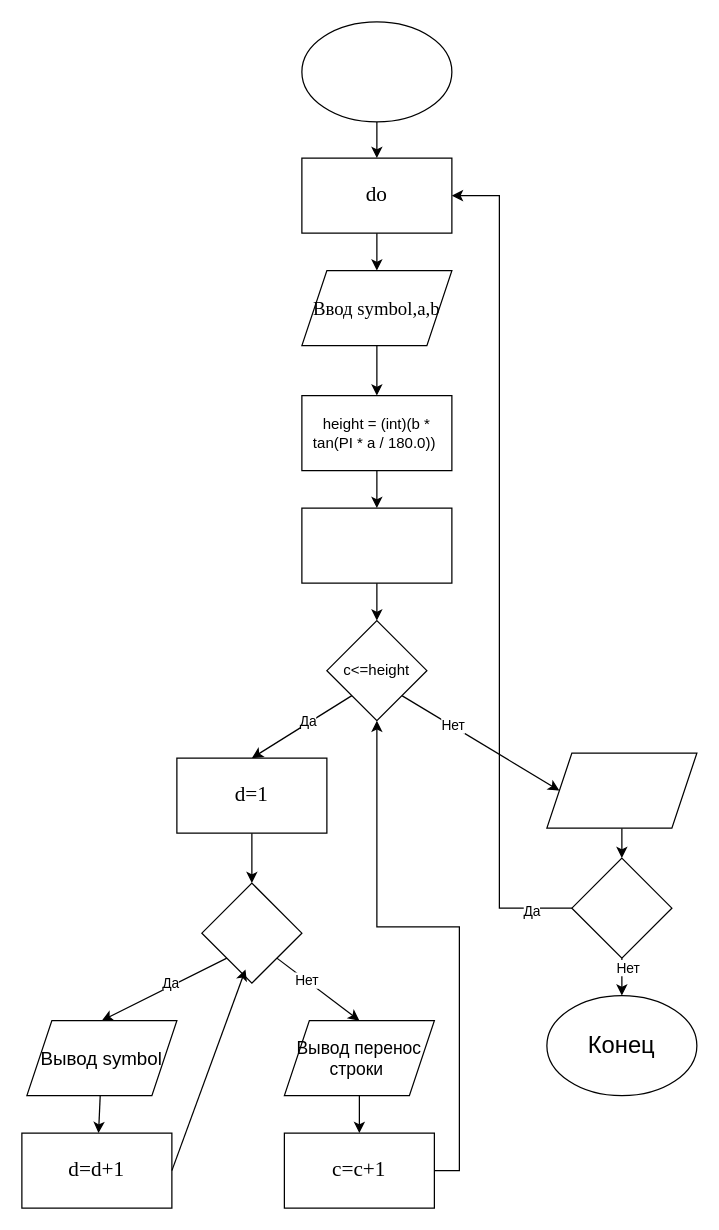
Some shapes in this 719 by 1230 pixel diagram are drawn without their labels. The centre of each missing label's shape, as x and y in pixels:
"answer!='n'" goes at (621,907).
"c=1" goes at (376,545).
"d<=c" goes at (251,932).
"Ввод answer (Продолжить?..)" goes at (621,790).
"Начало" goes at (376,71).
